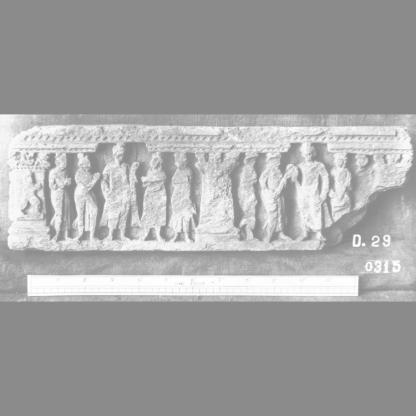buddha-standing: (297, 143, 329, 240)
